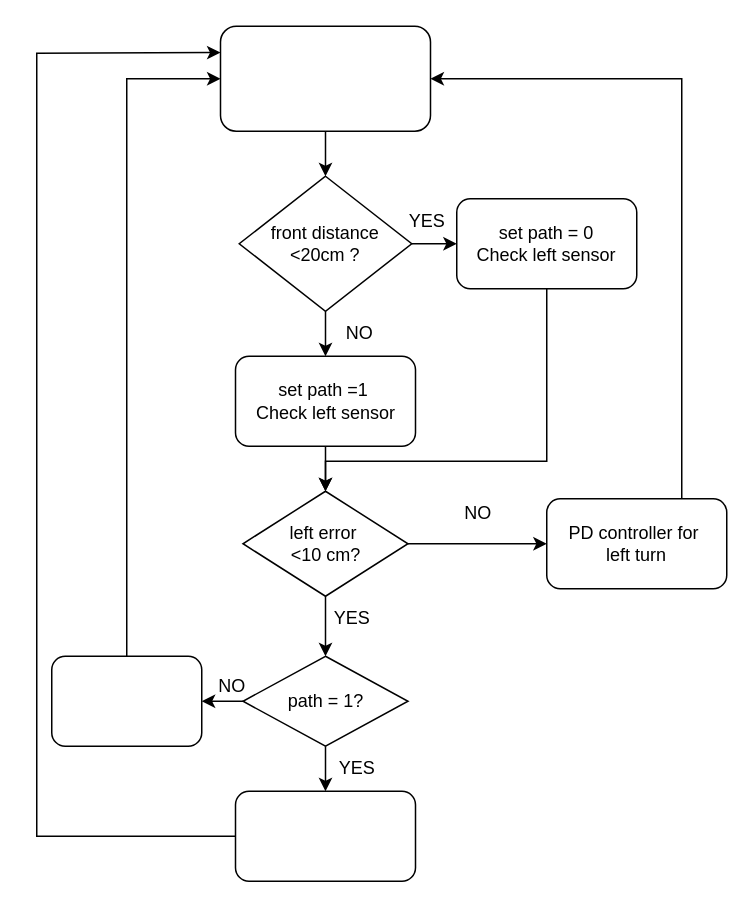
This 753x908 diagram has some shape labels left out. The shapes that lost their labels are listed below. From the top down, each one's box as (x1, y1, x2, y2) in pixels, then its label:
(219, 25, 430, 131): Check front sensor
(50, 655, 202, 746): right turn
(234, 790, 416, 881): PD conroller for wall following
